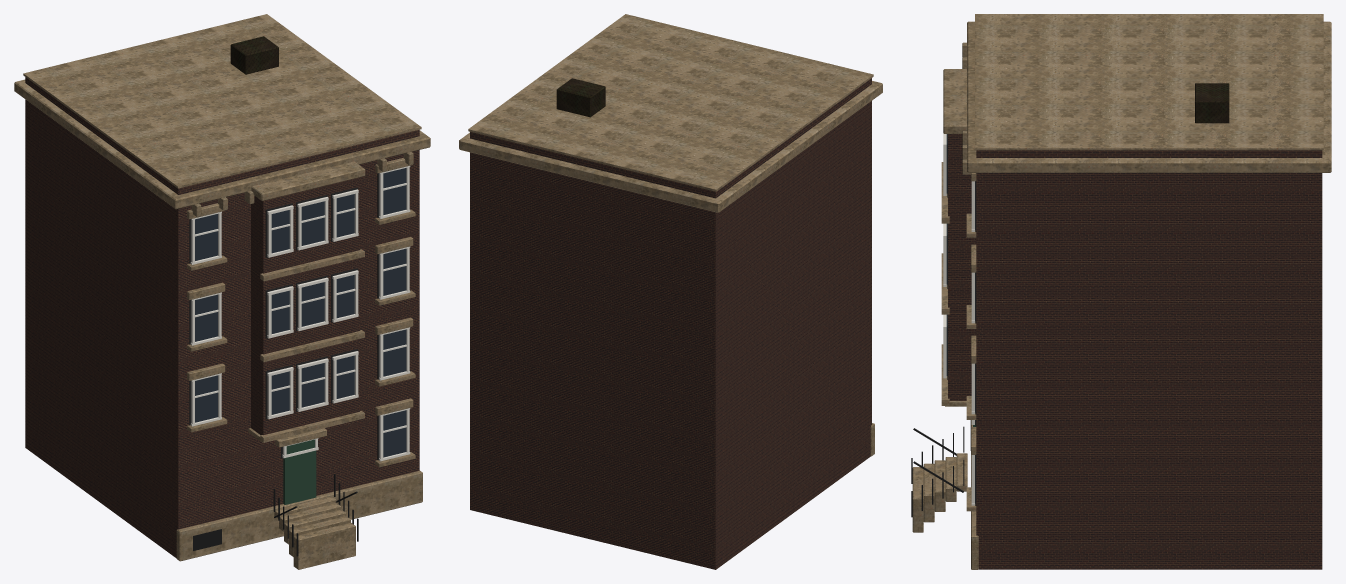
Rendered from OT_WalkUp_A.glb.
3 views of the same model, side by side, from view 1: azimuth 30°, elevation 25°; view 2: azimuth 150°, elevation 25°; view 3: azimuth 270°, elevation 25° (orthographic). The views are drawn at different scales.
Parts seen in each view (by area): view 1: OT_WalkUp_A_Brick, OT_WalkUp_A_Stone, OT_WalkUp_A_Glass__2c3640, OT_WalkUp_A_Frame__eae6dc, OT_WalkUp_A_Reveal__262626, OT_WalkUp_A_Door__2e4a3a, OT_WalkUp_A_Metal, OT_WalkUp_A_Iron__1c1c1c; view 2: OT_WalkUp_A_Brick, OT_WalkUp_A_Stone, OT_WalkUp_A_Metal; view 3: OT_WalkUp_A_Brick, OT_WalkUp_A_Stone, OT_WalkUp_A_Frame__eae6dc, OT_WalkUp_A_Metal, OT_WalkUp_A_Iron__1c1c1c, OT_WalkUp_A_Reveal__262626, OT_WalkUp_A_Glass__2c3640.
Boxes of the visible parts, x1,y1,x2,y2 form: OT_WalkUp_A_Brick: (25, 77, 419, 558); OT_WalkUp_A_Stone: (14, 14, 430, 569); OT_WalkUp_A_Glass__2c3640: (195, 168, 406, 457); OT_WalkUp_A_Frame__eae6dc: (190, 165, 410, 461); OT_WalkUp_A_Reveal__262626: (189, 173, 379, 460); OT_WalkUp_A_Door__2e4a3a: (283, 439, 316, 504); OT_WalkUp_A_Metal: (230, 36, 278, 74); OT_WalkUp_A_Iron__1c1c1c: (193, 474, 358, 556); OT_WalkUp_A_Brick: (470, 78, 871, 569); OT_WalkUp_A_Stone: (459, 14, 882, 456); OT_WalkUp_A_Metal: (556, 78, 605, 117); OT_WalkUp_A_Brick: (948, 134, 1322, 569); OT_WalkUp_A_Stone: (912, 14, 1331, 569); OT_WalkUp_A_Frame__eae6dc: (943, 133, 974, 505); OT_WalkUp_A_Metal: (1195, 83, 1229, 123); OT_WalkUp_A_Iron__1c1c1c: (911, 420, 970, 517); OT_WalkUp_A_Reveal__262626: (947, 134, 976, 505); OT_WalkUp_A_Glass__2c3640: (946, 134, 975, 503).
Bounding box in the file's own units: 10.6 × 16.08 × 13.37.
Materials: 8 (3 with a texture image).
